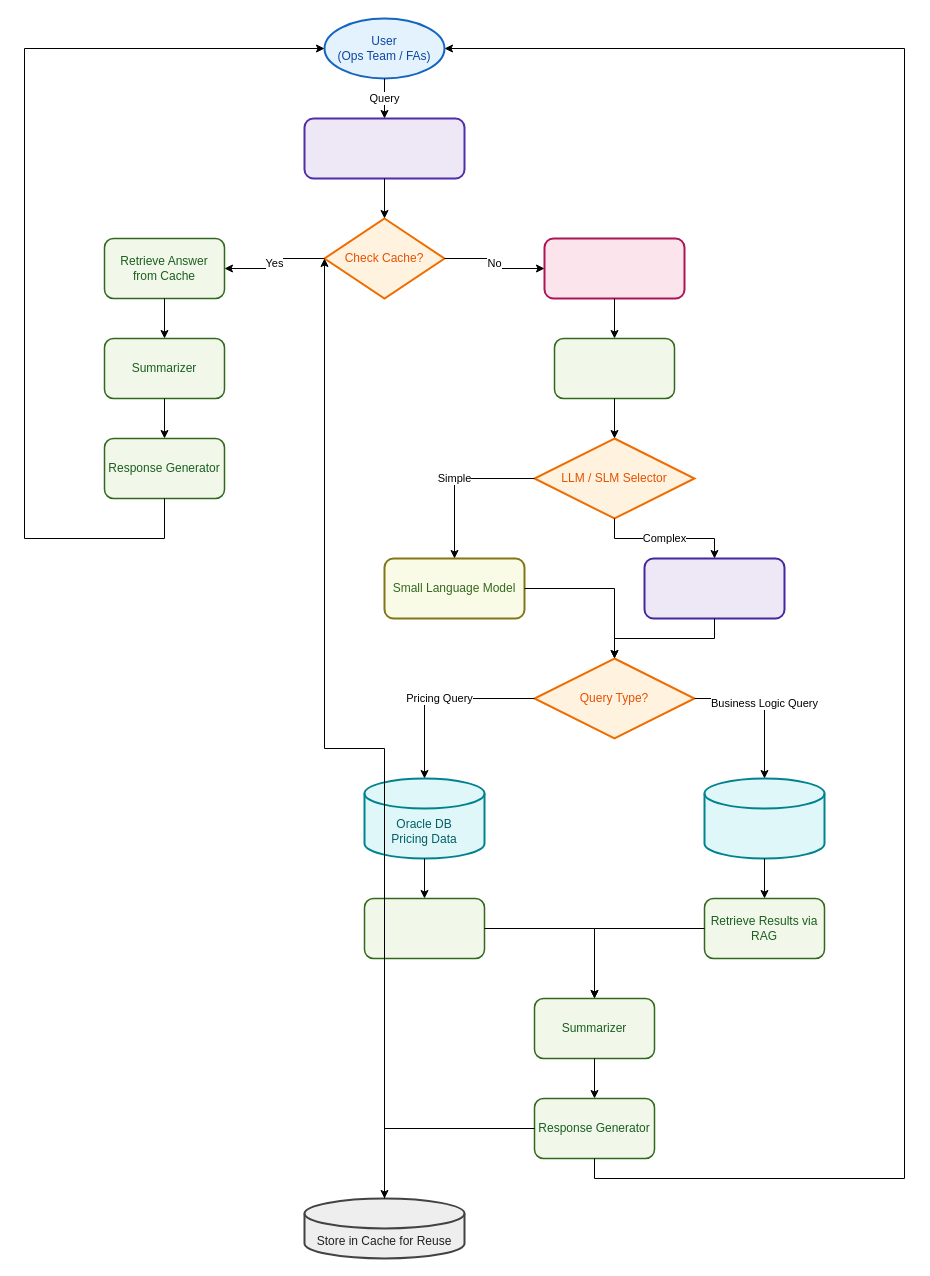
Image size: 930x1276. Some labels were removed from this diagram. Each missing label, with the centre of its shape:
Check Chat Session Memory: point 614,268
Document Knowledge Base: point 764,818
Enriched Query: point 614,368
Large Language Model: point 714,588
Opulence AI Agent: point 384,148
Retrieve Results: point 424,928
